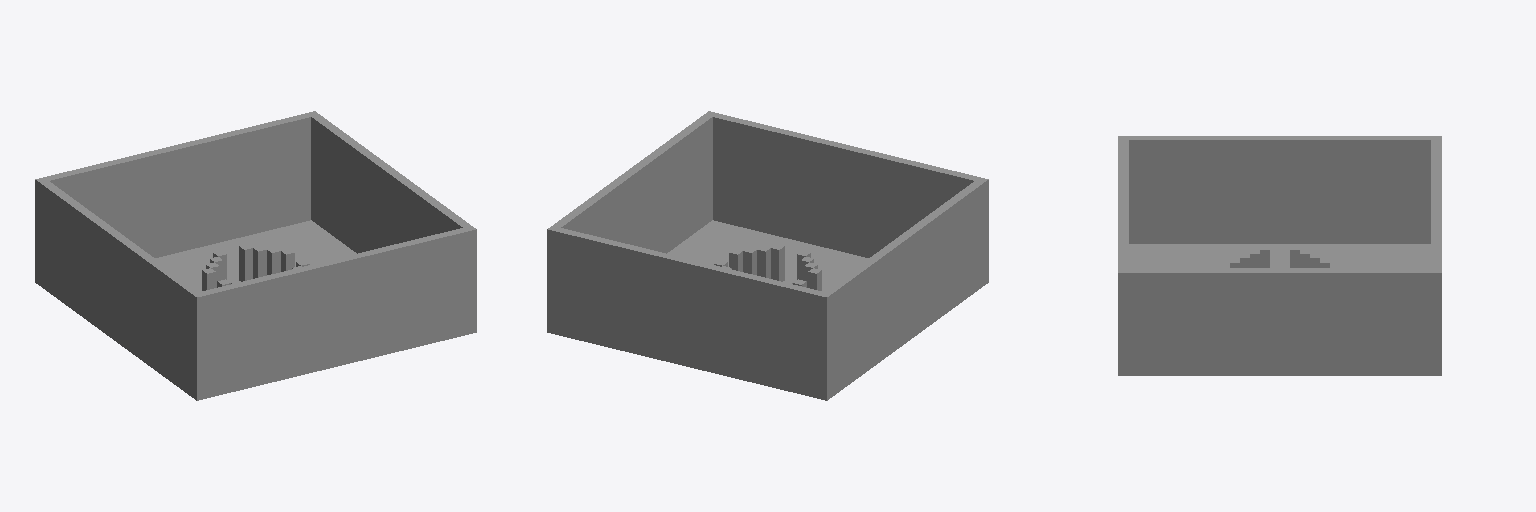
The model's file is walls_and_center.obj.
The picture shows the model from 3 angles: view 1: azimuth 30°, elevation 25°; view 2: azimuth 150°, elevation 25°; view 3: azimuth 270°, elevation 25°; orthographic projection.
Visible parts, largest first — view 1: Plane.000; view 2: Plane.000; view 3: Plane.000.
Part boxes in pixels (x1,y1,x2,y2): Plane.000: (35, 111, 476, 400); Plane.000: (547, 111, 988, 400); Plane.000: (1118, 136, 1441, 375).
Size of the model in its own units: 372 by 131 by 372.